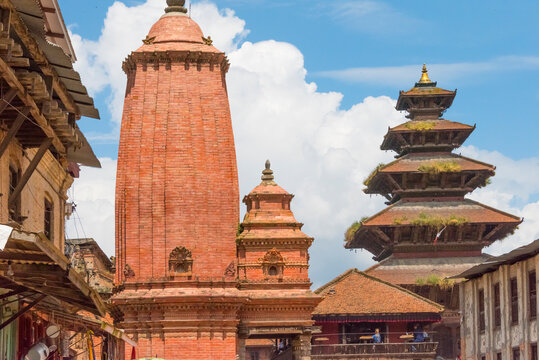nyathapola: (341, 53, 531, 279)
